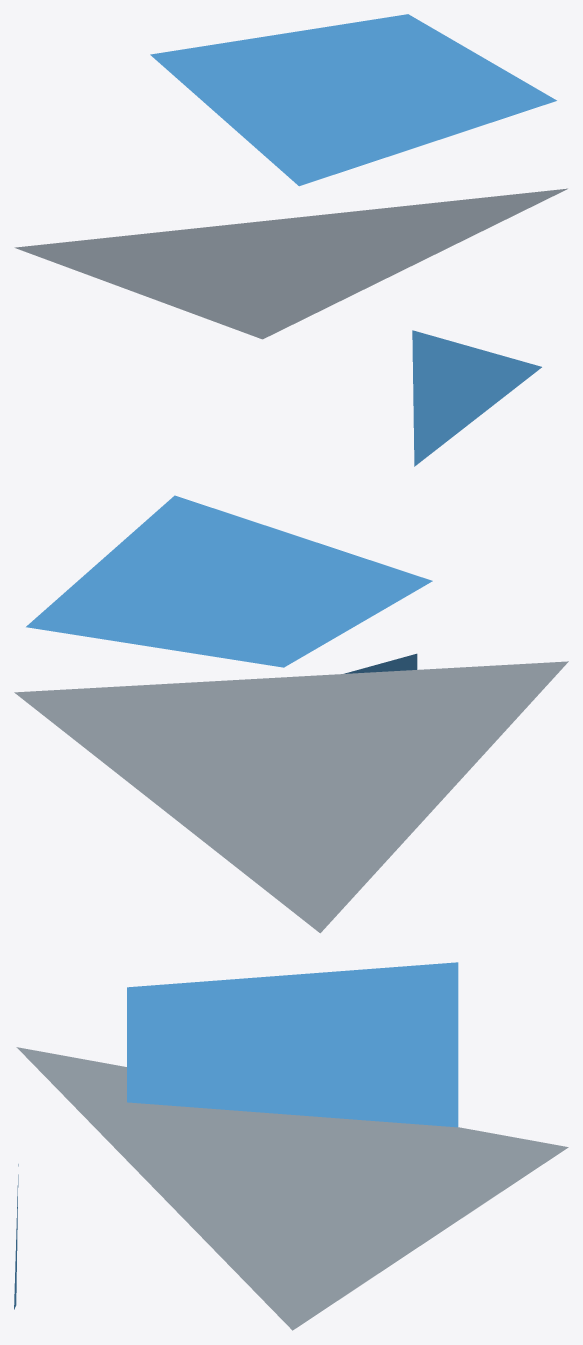
File: AL_ConYard_LOD2.glb
3 renders of one model, top to bottom at view 1: azimuth 30°, elevation 25°; view 2: azimuth 150°, elevation 25°; view 3: azimuth 270°, elevation 25°, orthographic. The views are drawn at different scales.
Parts seen in each view (by area): view 1: EntranceGate; view 2: EntranceGate; view 3: EntranceGate.
Part boxes in pixels (bbox=[...]): EntranceGate: bbox=[14, 14, 567, 466]; EntranceGate: bbox=[14, 495, 568, 933]; EntranceGate: bbox=[14, 962, 568, 1330].
Size of the model in its own units: 800 by 500 by 803.
